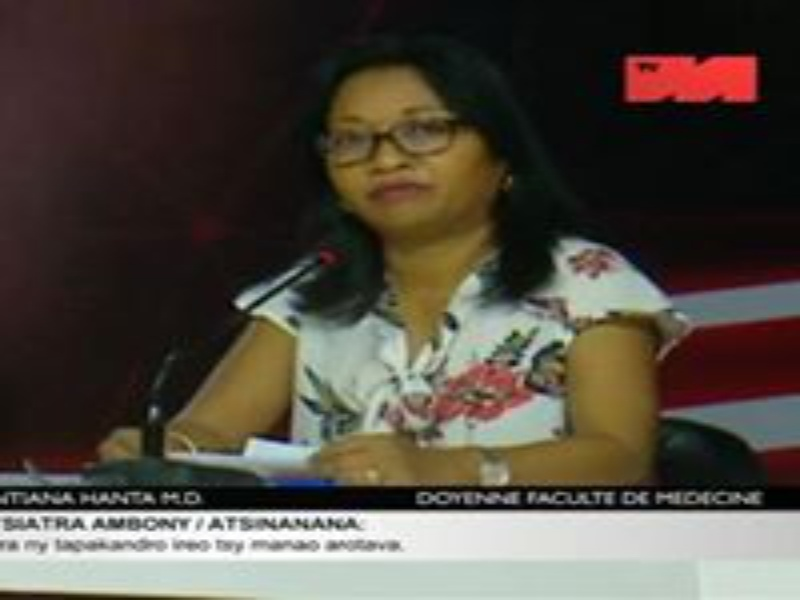TsisyArotava: (293, 41, 516, 257)
